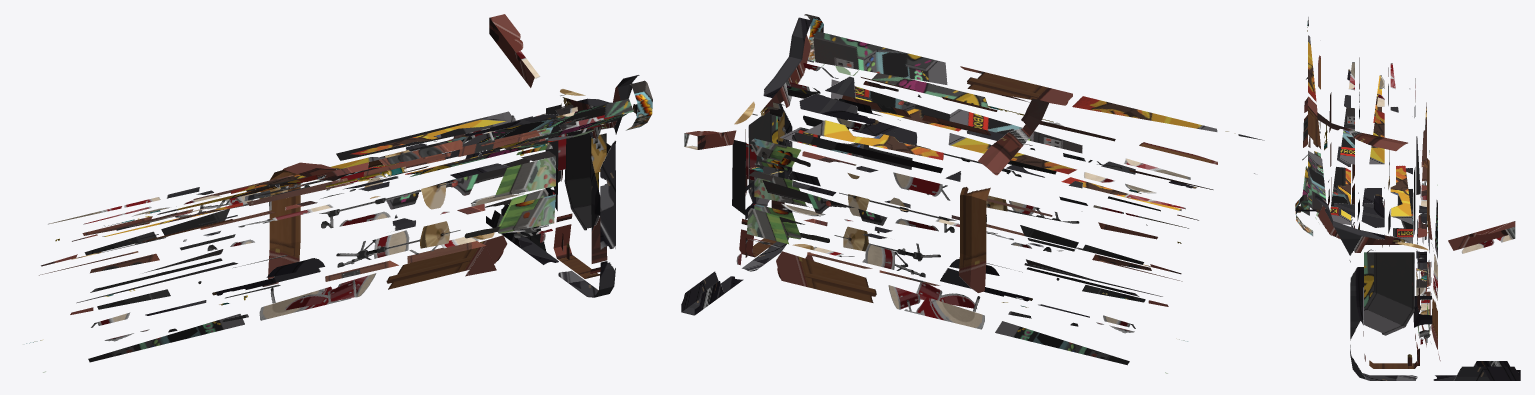
The picture shows the model from 3 angles, left to right: view 1: azimuth 30°, elevation 25°; view 2: azimuth 150°, elevation 25°; view 3: azimuth 270°, elevation 25°; orthographic projection. The views are drawn at different scales.
Size of the model in its own units: 1.75 by 0.7542 by 0.8461.
